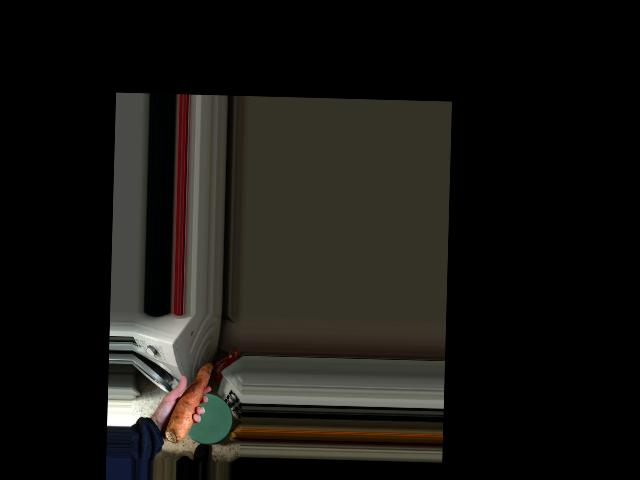sweet_potato: (162, 355, 217, 445)
